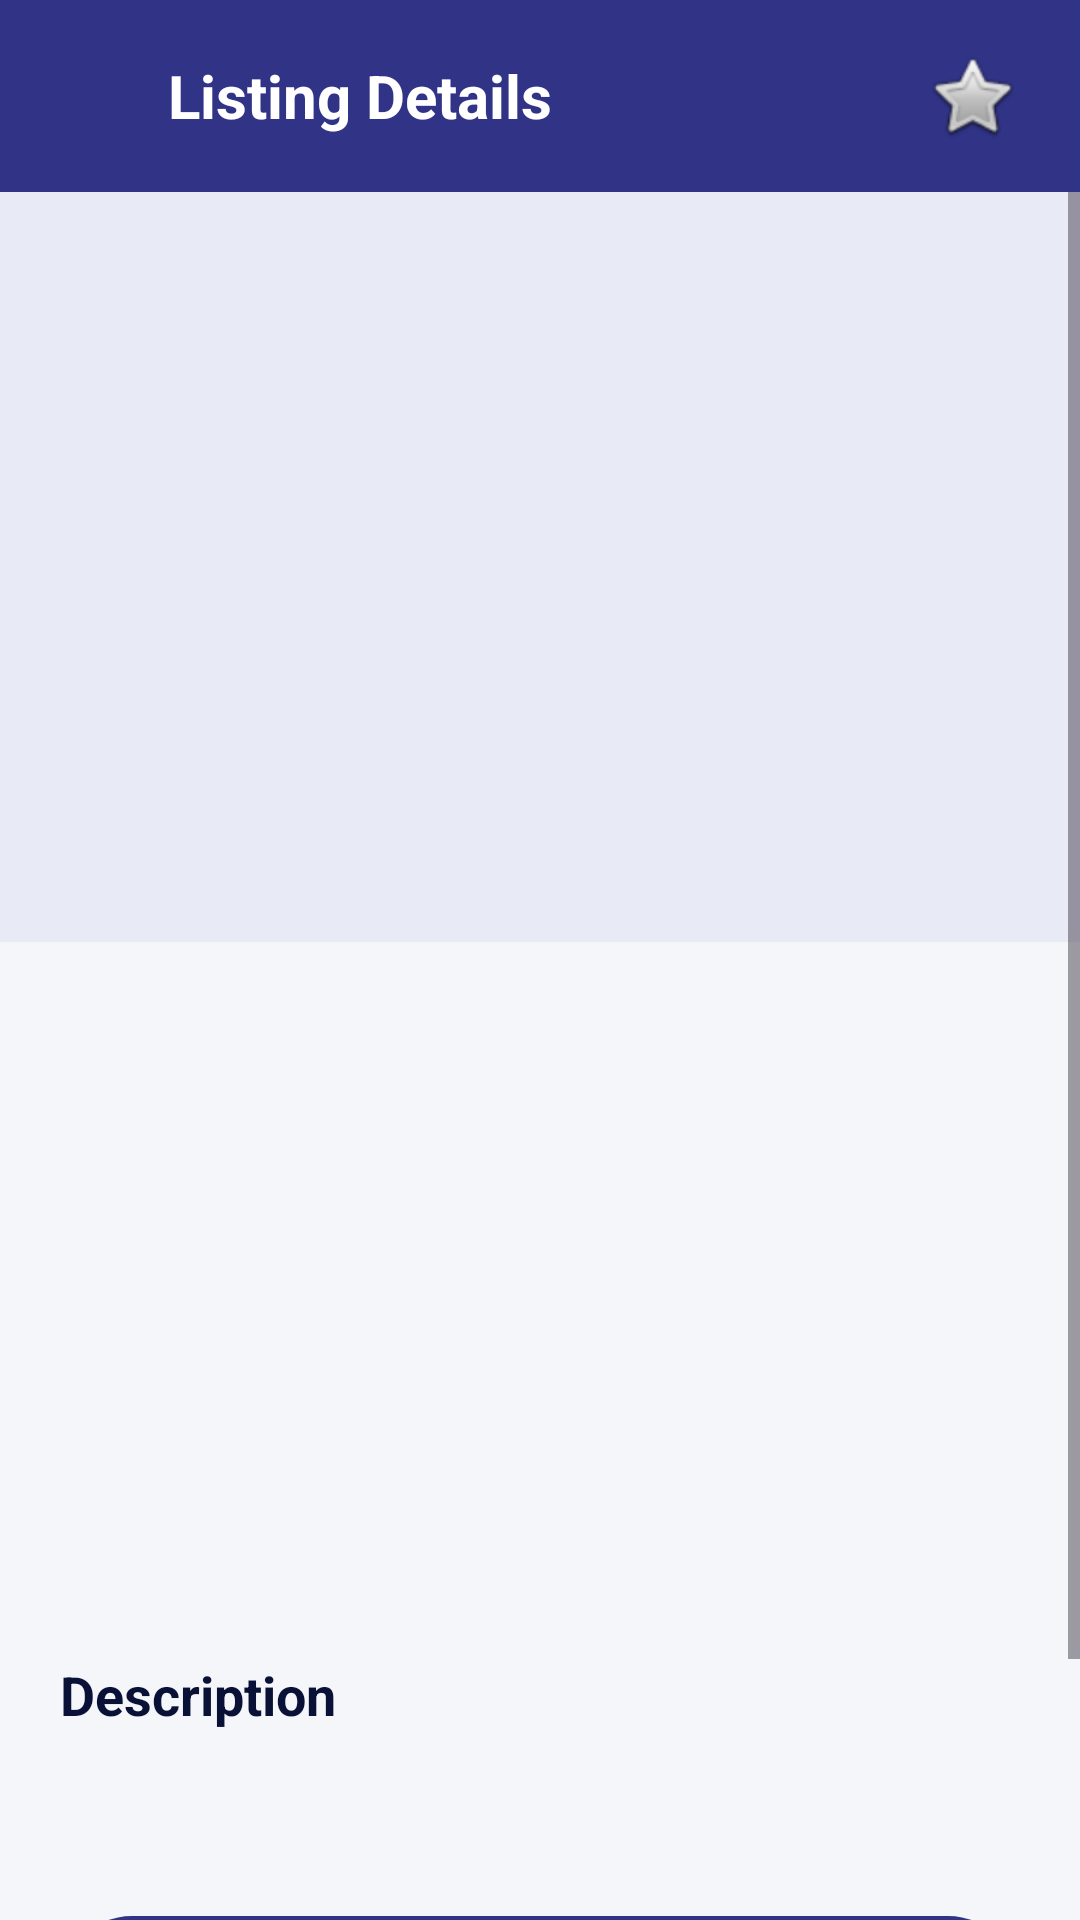

Where icons sit on this 1080x1920 app screen, as (x1, y1, x2, y2):
star off: (934, 59, 1012, 135)
